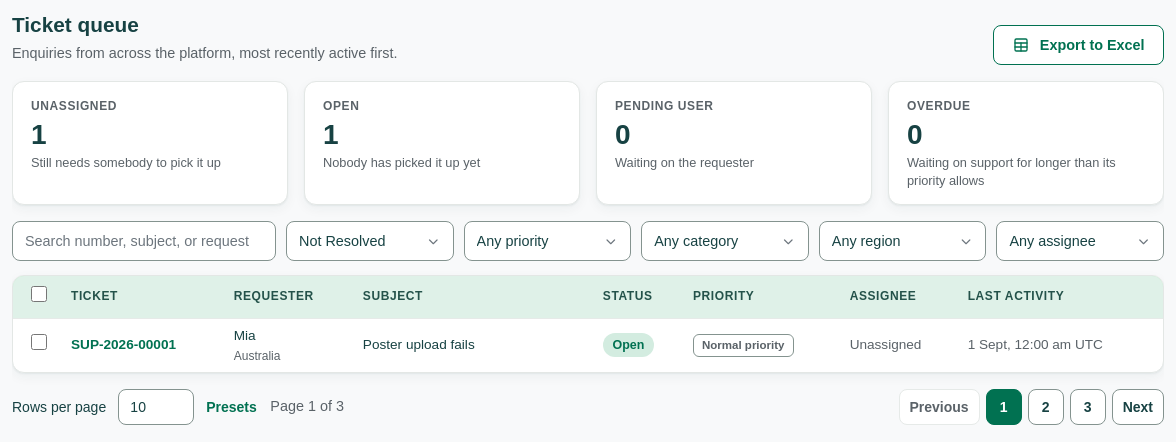
an answer that arrives late › does not paint an older request over a newer one
This screenshot has width=1176, height=442.
What coordinates should you click on to do the following:
click the button "Open"
I would click on:
 (341, 106)
Its box is [323,98,359,115].
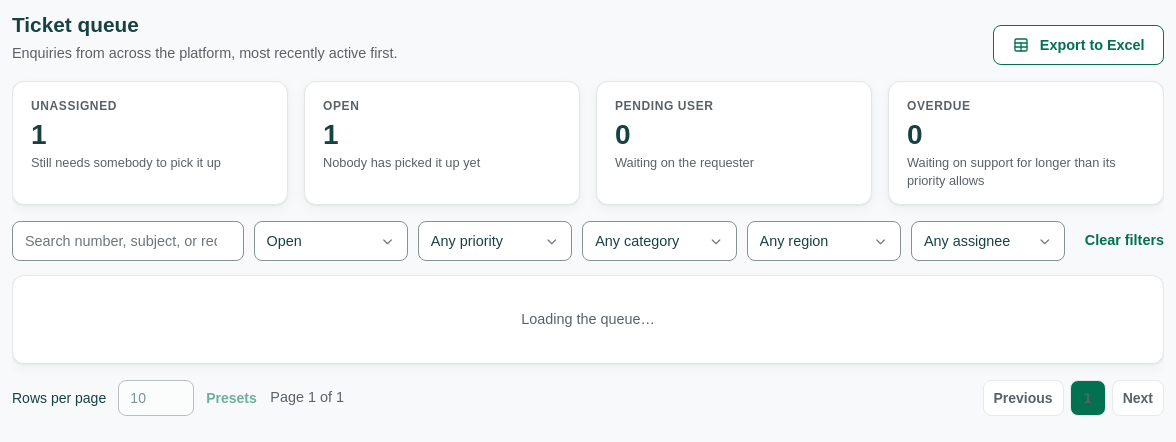
What coordinates should you click on to do the following:
click the button "Pending user"
I would click on:
 (664, 106)
Its box is [615,98,714,115].
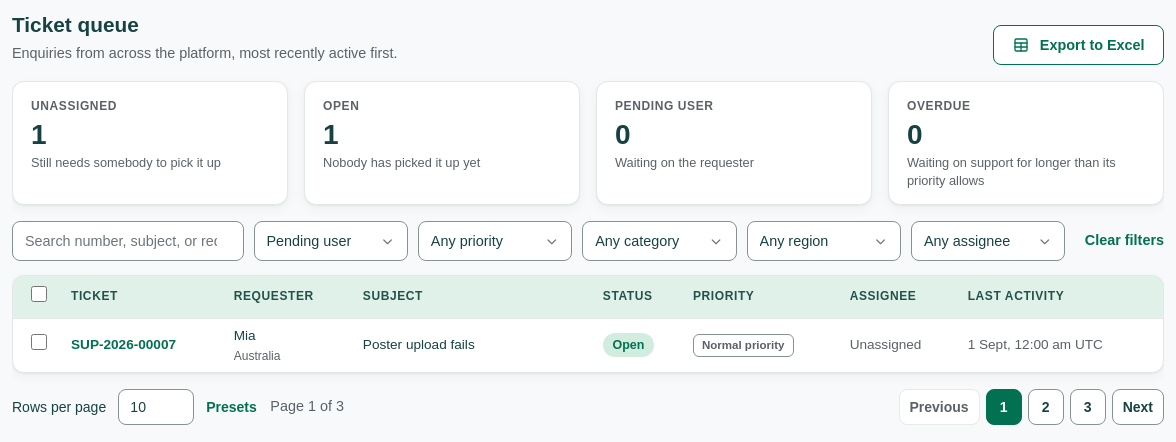
Expected: the button with aria-label "Open SUP-2026-00007" is shown, [71,335,176,356]
